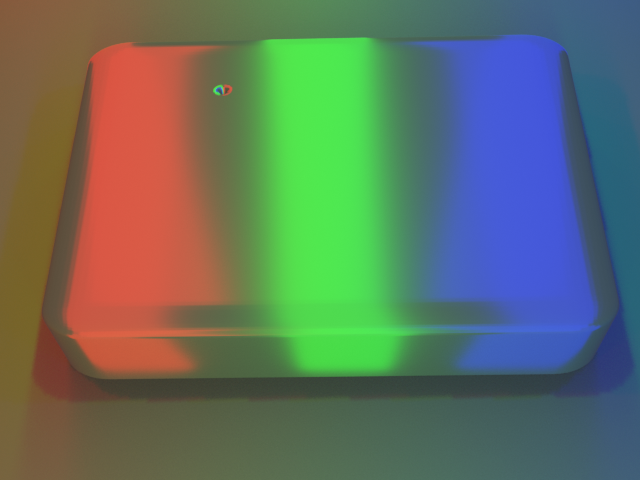dent: (191, 58, 233, 95)
